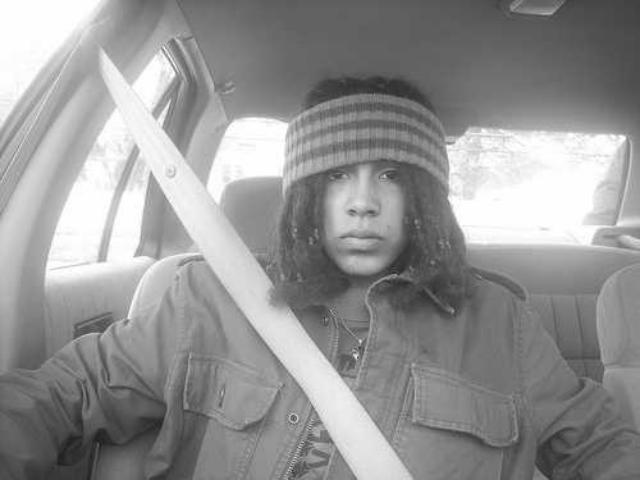SafeDriving: (368, 163, 409, 188), (316, 164, 358, 185)
Seatbelt: (94, 36, 420, 480)
